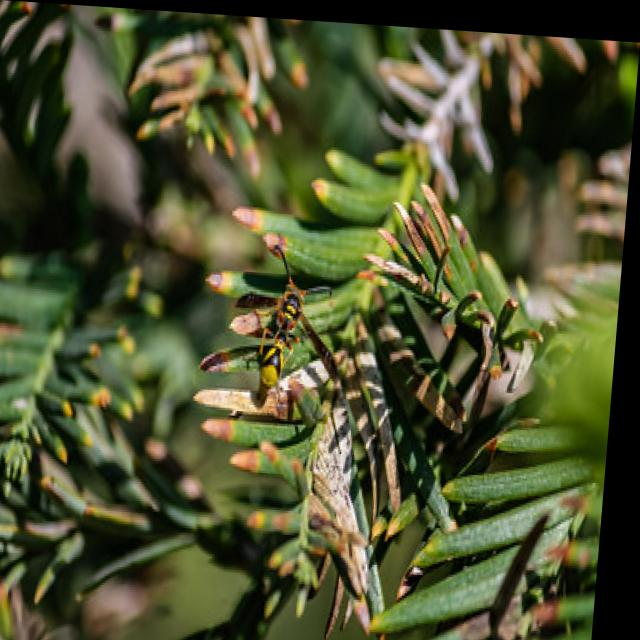Guepe: (249, 231, 340, 398)
